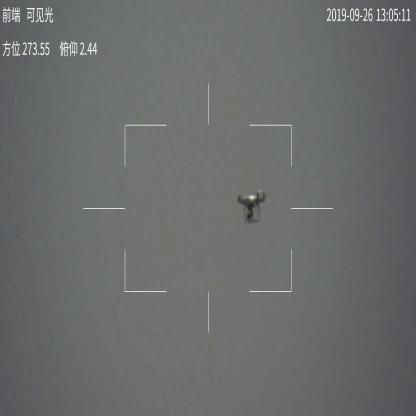uav: (233, 189, 270, 224)
